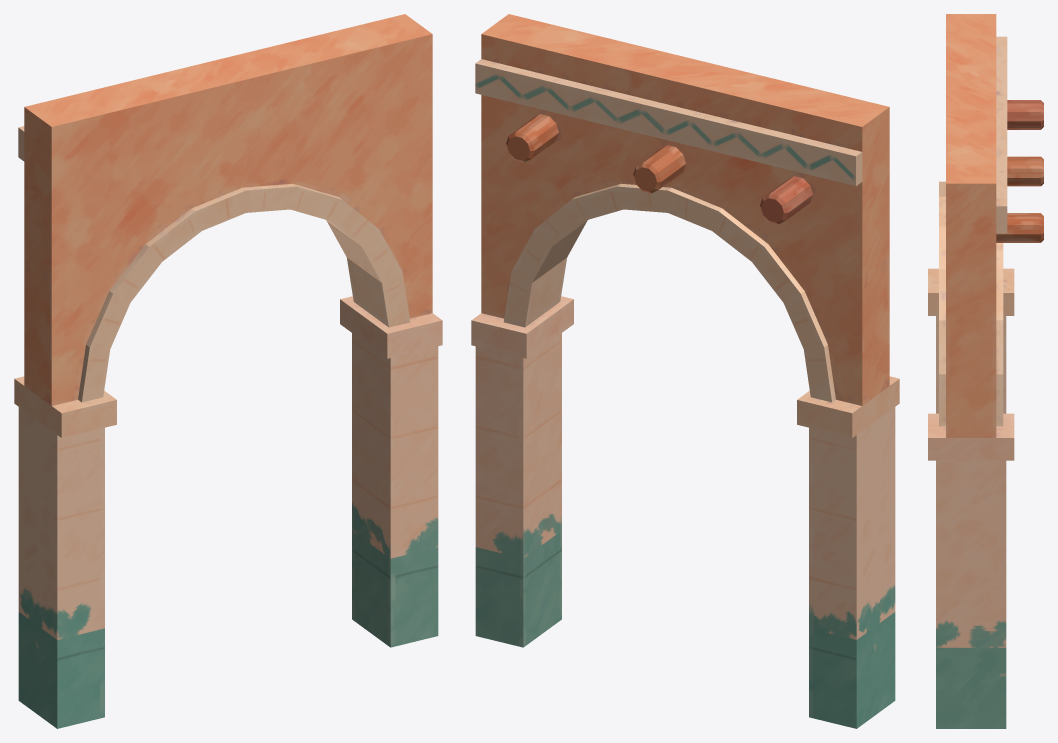
File: wall2_arcade.fbx
3 renders of one model, left to right at view 1: azimuth 30°, elevation 25°; view 2: azimuth 150°, elevation 25°; view 3: azimuth 270°, elevation 25°, orthographic. The views are drawn at different scales.
Visible parts, largest first — view 1: wall2_arcade; view 2: wall2_arcade; view 3: wall2_arcade.
Boxes of the visible parts, box(x1,y1,x2,y2) form: wall2_arcade: box(14, 14, 442, 728); wall2_arcade: box(471, 14, 899, 728); wall2_arcade: box(928, 14, 1043, 728).
Bounding box in the file's own units: 8 × 12 × 2.31.
1 material, 1 textured.
